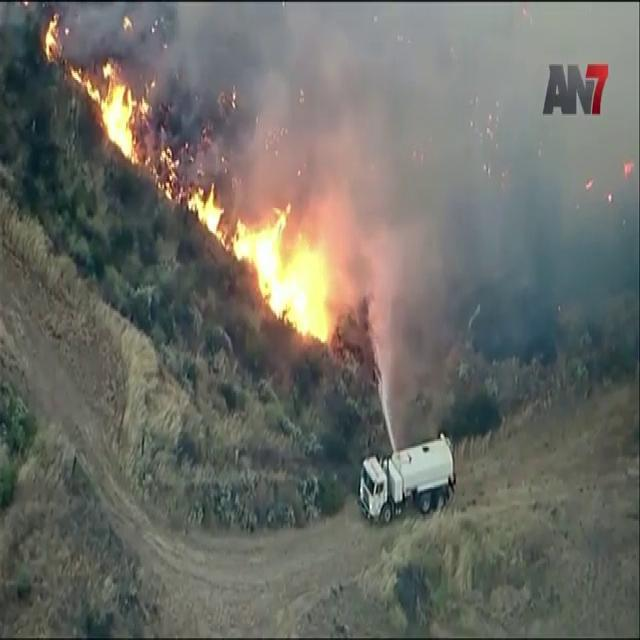Fire: (232, 215, 336, 338), (71, 66, 139, 162), (184, 188, 227, 246), (142, 146, 180, 204), (42, 18, 61, 62)
Smoke: (61, 3, 542, 390)
